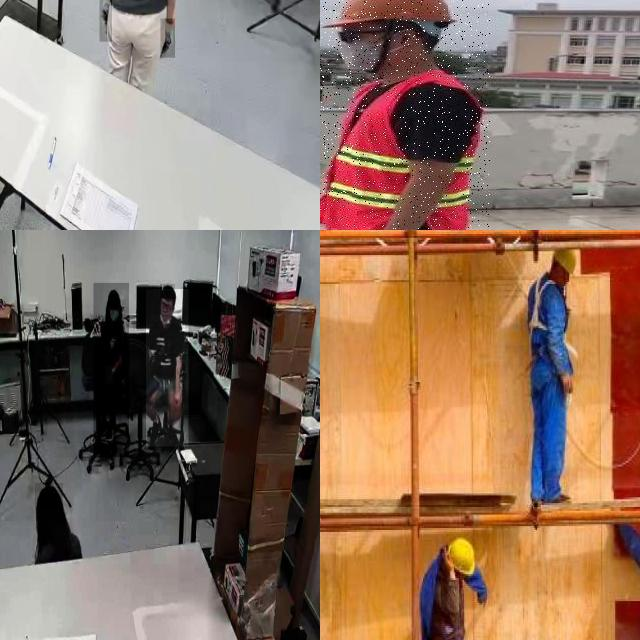face_mask: (108, 298, 119, 323)
face_nomask: (159, 300, 173, 323)
hand_glove: (160, 18, 176, 58), (99, 0, 112, 42)
hand_noglove: (172, 388, 182, 412), (106, 366, 114, 384)
head_helmet: (324, 0, 460, 28)
head_nohelmet: (35, 483, 63, 510), (160, 284, 176, 300), (106, 288, 120, 302)
person: (320, 0, 490, 230), (102, 0, 193, 131), (146, 289, 189, 447), (94, 283, 130, 458)
vest: (320, 74, 485, 230)
